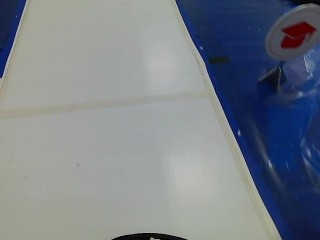school: (263, 0, 318, 61)
